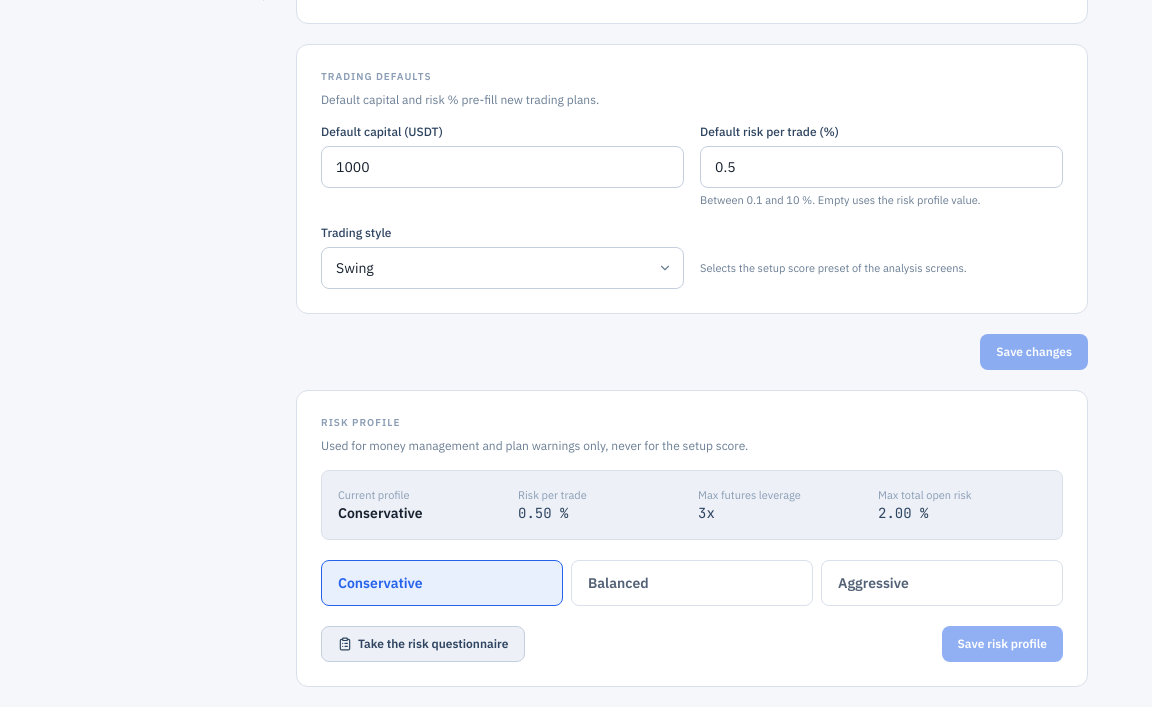
Test: SCR-07 Profile tab › asks MSG48 before saving AGGRESSIVE and then confirms it
(page scrolled)
Click the radio button labelled "Aggressive". click: (942, 583)
box: [821,560,1063,606]
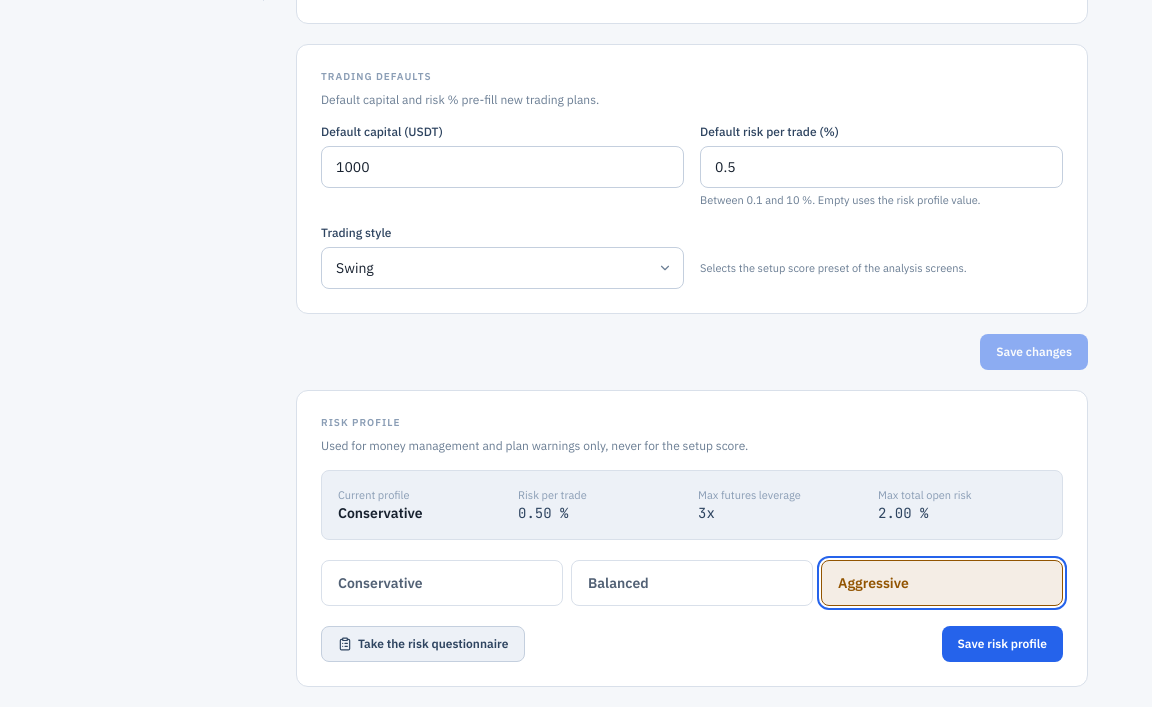
Click the button "Save risk profile". click: (1002, 644)
box: [942,626,1063,662]
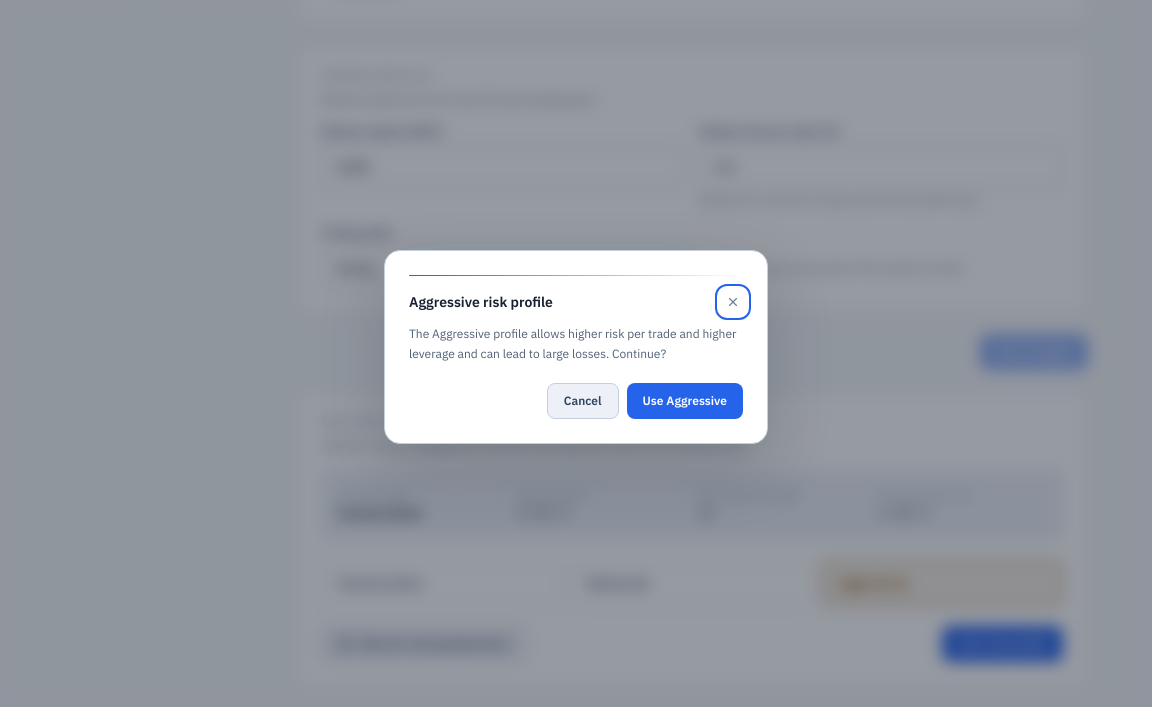
Result: the text "can lead to large losses" is shown at [409,326,736,360]
Click the button "Use Aggressive". click: (685, 401)
box: [627,383,743,419]
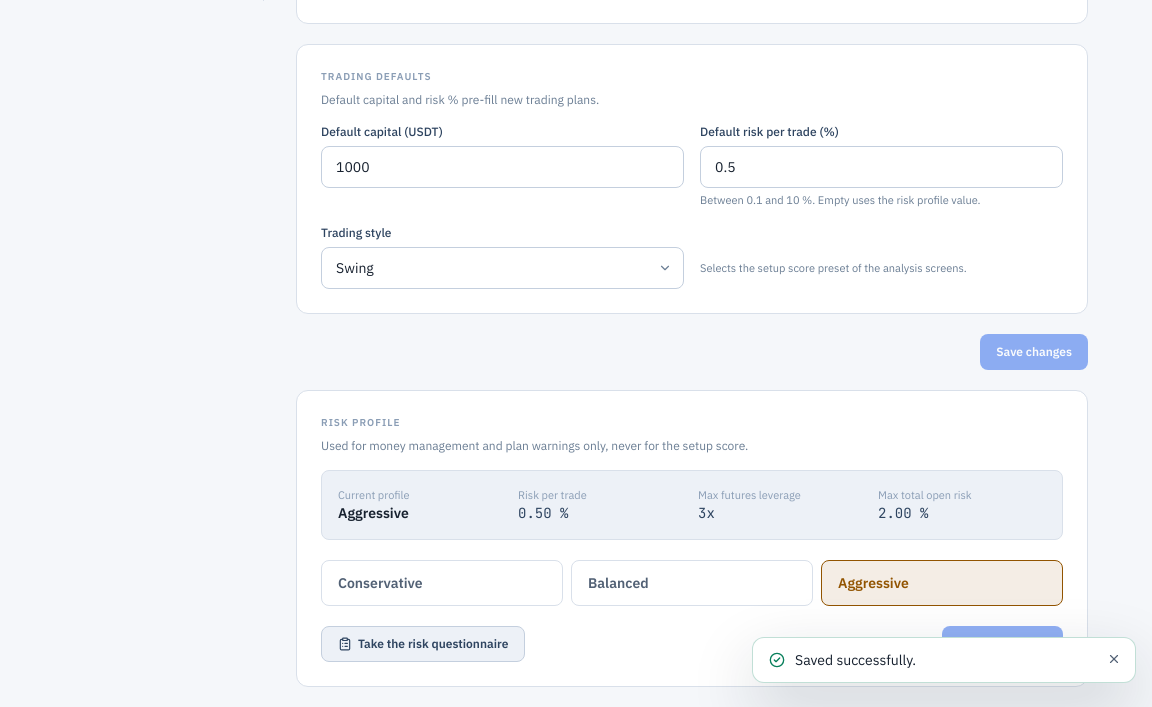
Result: the text "Saved successfully." is shown at [795,651,916,669]
